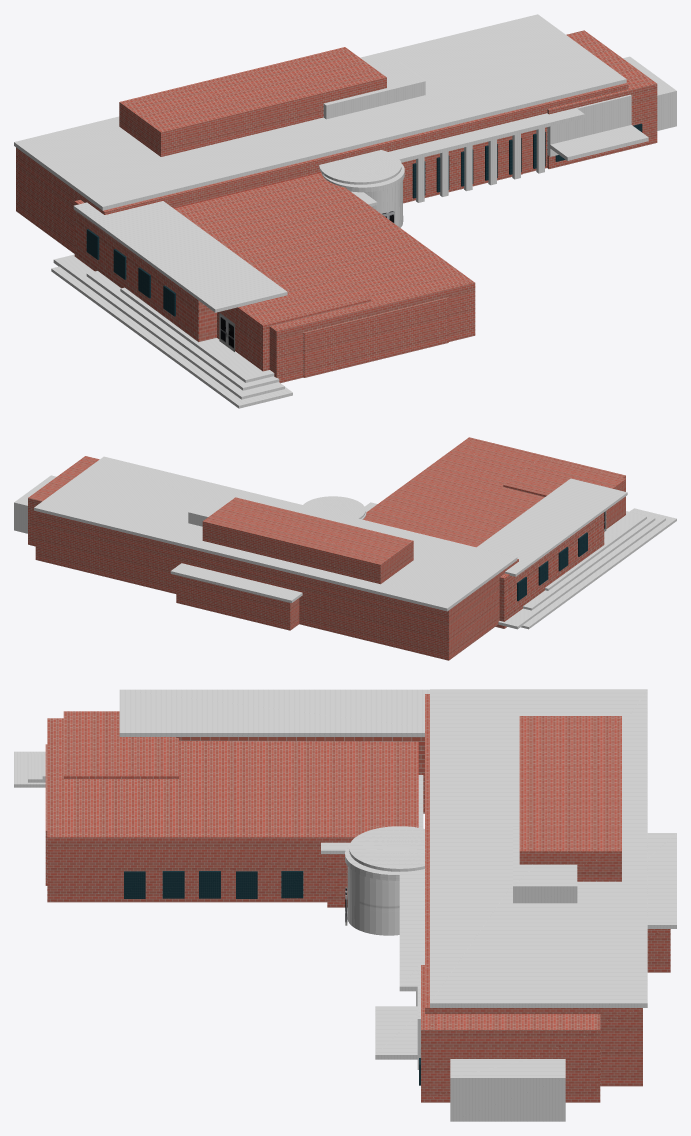
Rendered from schwitzer_student_center_v12.glb.
3 views of the same model, one above another, from view 1: azimuth 30°, elevation 25°; view 2: azimuth 150°, elevation 25°; view 3: azimuth 270°, elevation 25° (orthographic). The views are drawn at different scales.
Parts seen in each view (by area): view 1: north_bar_roof_cap_1, west_stem_main_1, rear_upper_mass, north_bar_main_1, rear_lower_entry_cap, west_stem_south_step_1, southwest_low_mass_1, rear_lower_entry, panel_block_main_1, east_fin_hall_roof_1, east_fin_hall_1, amp_terrace_4 (+10 smaller); view 2: north_bar_roof_cap_1, north_bar_main_1, west_stem_main_1, rear_upper_mass, rear_lower_entry_cap, rear_lower_entry_1, rear_lower_entry, southwest_low_mass_1, rear_lower_entry_cap_1, amp_terrace_1_5, amp_terrace_4, panel_block_main_1 (+5 smaller); view 3: north_bar_roof_cap_1, west_stem_main_1, rear_upper_mass, rear_lower_entry_cap, panel_block_main_1, far_east_stub_1, southwest_low_mass_1, north_bar_main_1, east_fin_hall_roof_1, rotunda_roof_ring_1, rotunda_cap_3, rear_lower_entry_cap_1 (+10 smaller).
Part boxes in pixels (left/top/right/bottom): north_bar_roof_cap_1: left=14, top=14, right=626, bottom=210; west_stem_main_1: left=174, top=172, right=475, bottom=383; rear_upper_mass: left=119, top=47, right=386, bottom=156; north_bar_main_1: left=16, top=83, right=628, bottom=253; rear_lower_entry_cap: left=73, top=201, right=287, bottom=312; west_stem_south_step_1: left=303, top=297, right=448, bottom=377; southwest_low_mass_1: left=217, top=265, right=371, bottom=371; rear_lower_entry: left=74, top=200, right=216, bottom=342; panel_block_main_1: left=547, top=30, right=657, bottom=168; east_fin_hall_roof_1: left=389, top=108, right=584, bottom=162; east_fin_hall_1: left=401, top=133, right=522, bottom=203; amp_terrace_4: left=51, top=266, right=292, bottom=408; north_bar_roof_cap_1: left=34, top=456, right=517, bottom=611; north_bar_main_1: left=35, top=511, right=518, bottom=660; west_stem_main_1: left=363, top=437, right=625, bottom=547; rear_upper_mass: left=202, top=497, right=413, bottom=584; rear_lower_entry_cap: left=477, top=478, right=627, bottom=576; rear_lower_entry_1: left=176, top=575, right=299, bottom=630; rear_lower_entry: left=495, top=512, right=604, bottom=628; southwest_low_mass_1: left=503, top=458, right=625, bottom=528; rear_lower_entry_cap_1: left=170, top=563, right=302, bottom=603; amp_terrace_1_5: left=498, top=510, right=665, bottom=629; amp_terrace_4: left=521, top=508, right=676, bottom=629; panel_block_main_1: left=28, top=456, right=99, bottom=546; north_bar_roof_cap_1: left=430, top=689, right=647, bottom=1007; west_stem_main_1: left=47, top=718, right=418, bottom=902; rear_upper_mass: left=519, top=716, right=621, bottom=881; rear_lower_entry_cap: left=119, top=689, right=429, bottom=736; panel_block_main_1: left=421, top=965, right=600, bottom=1102; far_east_stub_1: left=450, top=1059, right=565, bottom=1121; southwest_low_mass_1: left=63, top=711, right=178, bottom=778; north_bar_main_1: left=425, top=694, right=642, bottom=1086; east_fin_hall_roof_1: left=399, top=869, right=424, bottom=991; rotunda_roof_ring_1: left=349, top=826, right=424, bottom=871; rotunda_cap_3: left=347, top=866, right=399, bottom=935; rear_lower_entry_cap_1: left=647, top=833, right=676, bottom=928.
Size of the model in its own units: 136 by 20.7 by 104.
Materials: 5 (5 with a texture image).
